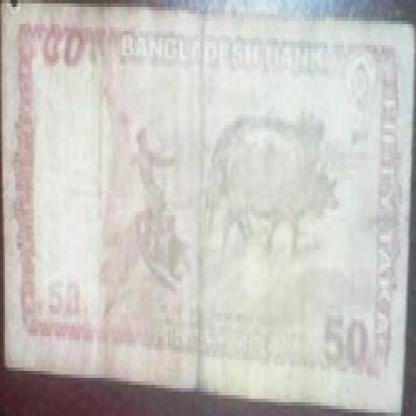Fifty taka: (316, 301, 380, 378), (40, 24, 100, 94)
